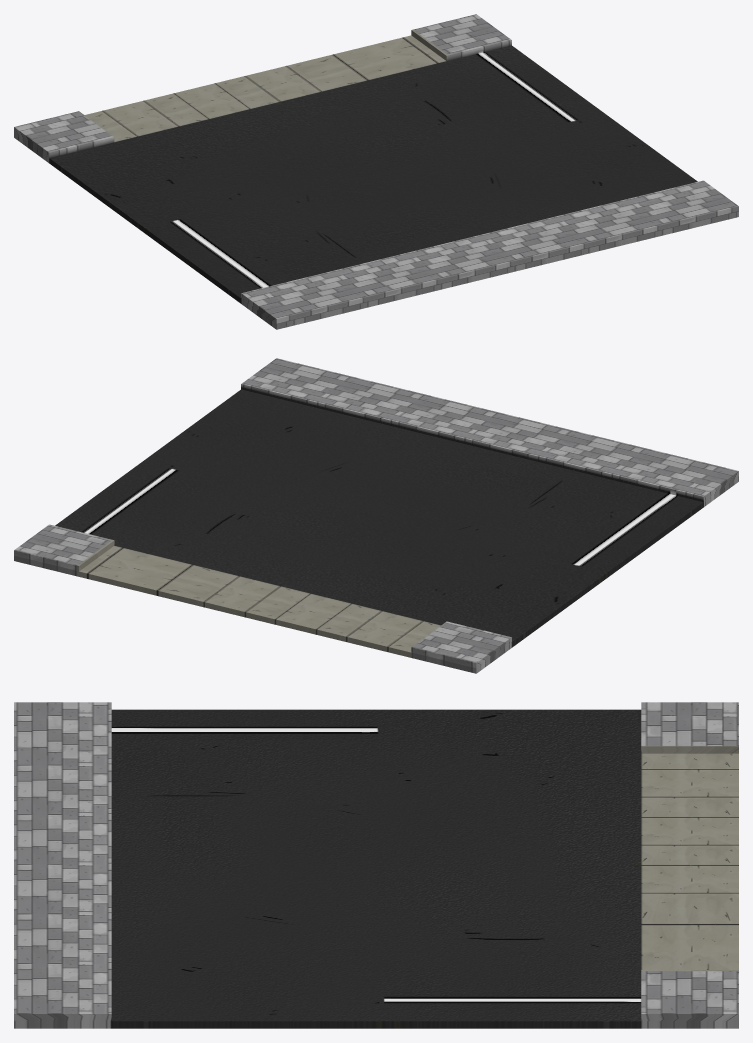
File: road-t-intersection-piece.fbx
3 views of the same model, one above another, from view 1: azimuth 30°, elevation 25°; view 2: azimuth 150°, elevation 25°; view 3: azimuth 270°, elevation 25° (orthographic). The views are drawn at different scales.
Parts seen in each view (by area): view 1: polySurface2; view 2: polySurface2; view 3: polySurface2.
Boxes of the visible parts, x1,y1,x2,y2 form: polySurface2: (14,14,738,329); polySurface2: (14,358,738,673); polySurface2: (14,702,738,1028).
Size of the model in its own units: 9.05 by 0.2 by 8.9.
